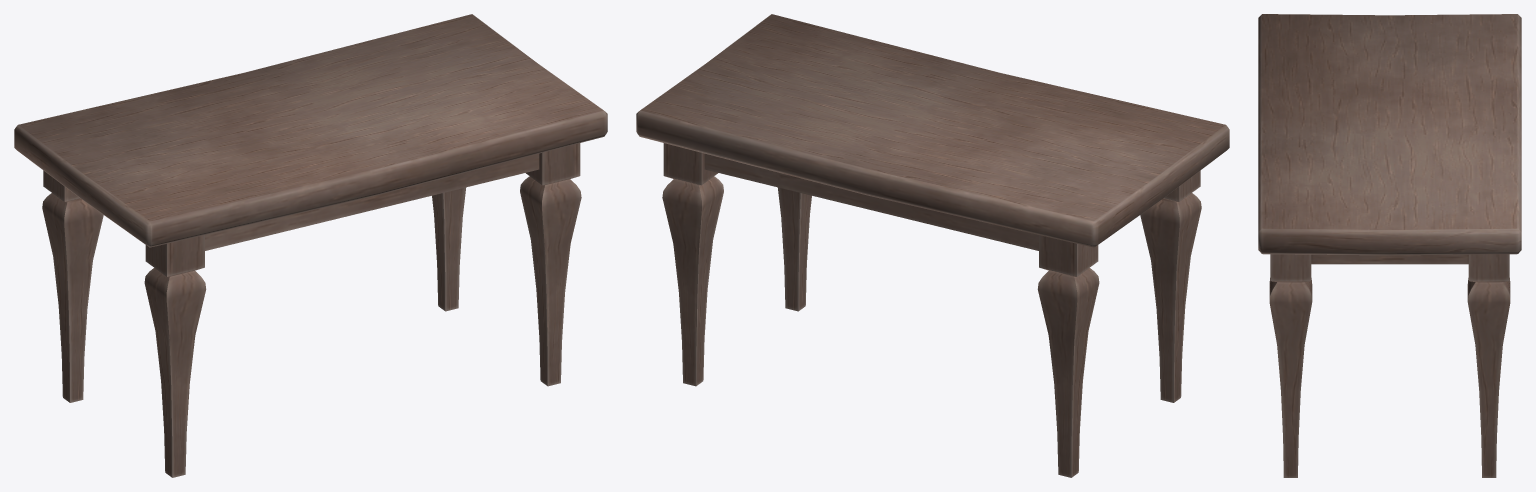
3 renders of one model, left to right at view 1: azimuth 30°, elevation 25°; view 2: azimuth 150°, elevation 25°; view 3: azimuth 270°, elevation 25°, orthographic. The views are drawn at different scales.
Parts seen in each view (by area): view 1: submesh_0; view 2: submesh_0; view 3: submesh_0.
Boxes of the visible parts, <box> form: submesh_0: <box>14,14,607,477</box>; submesh_0: <box>636,14,1229,477</box>; submesh_0: <box>1258,14,1521,477</box>.
Size of the model in its own units: 1.91 by 1.08 by 0.9726.
1 material, 1 textured.
